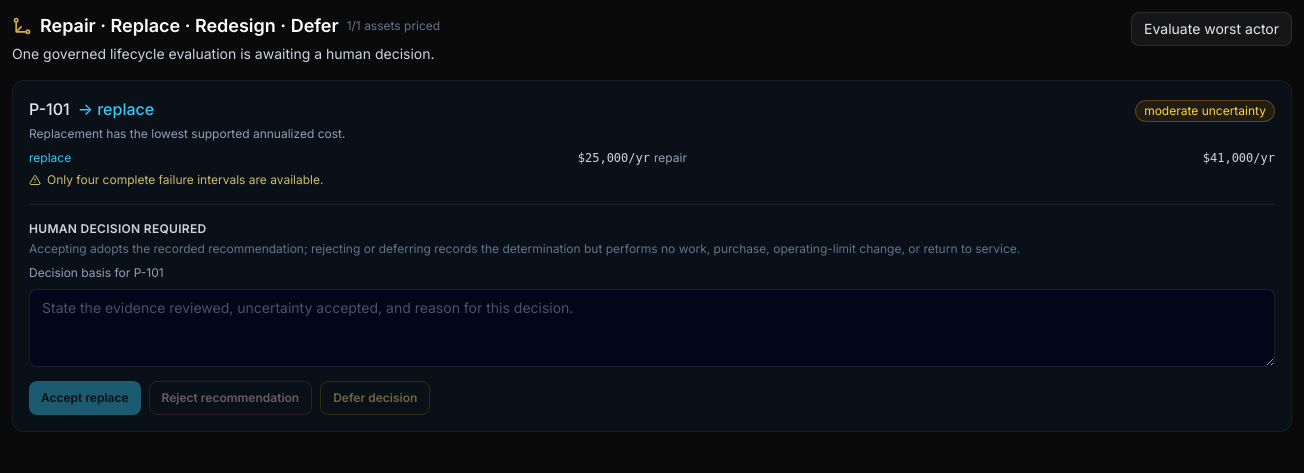
Scenario: LifecycleDecisions › shows the server refusal and does not claim a decision
Replace the text in the text box labelled "Decision basis for P-101" with "Defer until the missing evidence has been reviewed." at {"x": 652, "y": 328}, box [29,289,1275,367]
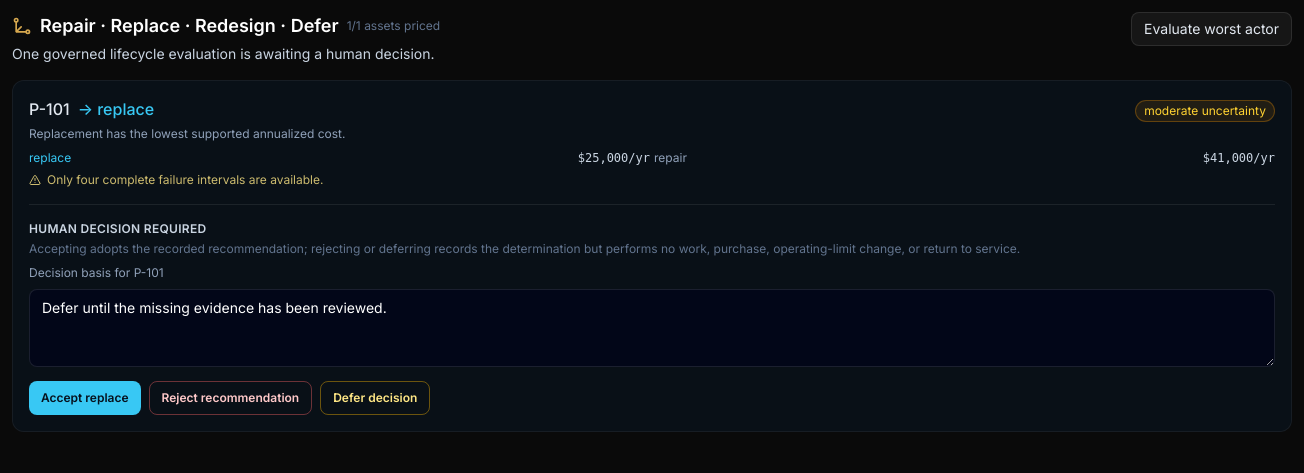
Click the button "Defer decision" at {"x": 375, "y": 398}, box [320,381,430,415]
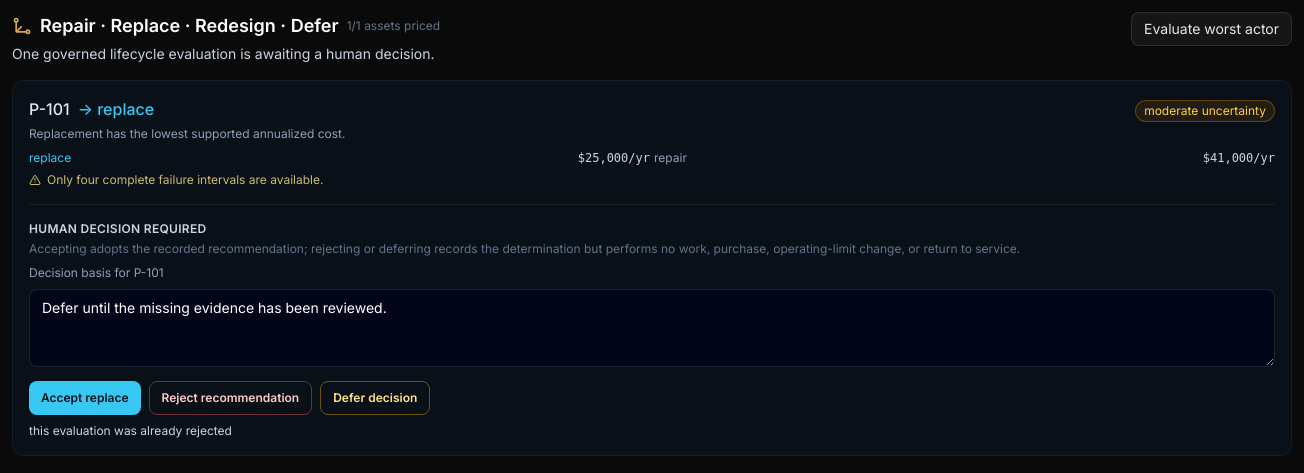
Check: the text "this evaluation was already rejected" is shown, box [29,423,232,438]
